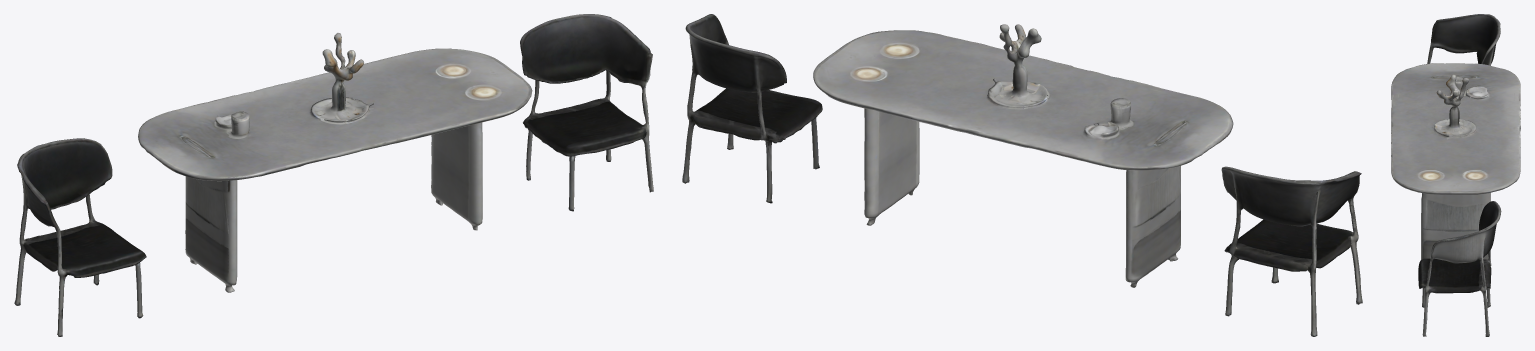
3 renders of one model, left to right at view 1: azimuth 30°, elevation 25°; view 2: azimuth 150°, elevation 25°; view 3: azimuth 270°, elevation 25°, orthographic. The views are drawn at different scales.
Bounding box in the file's own units: 2 × 0.6497 × 0.4917.
Materials: 1 (1 with a texture image).
